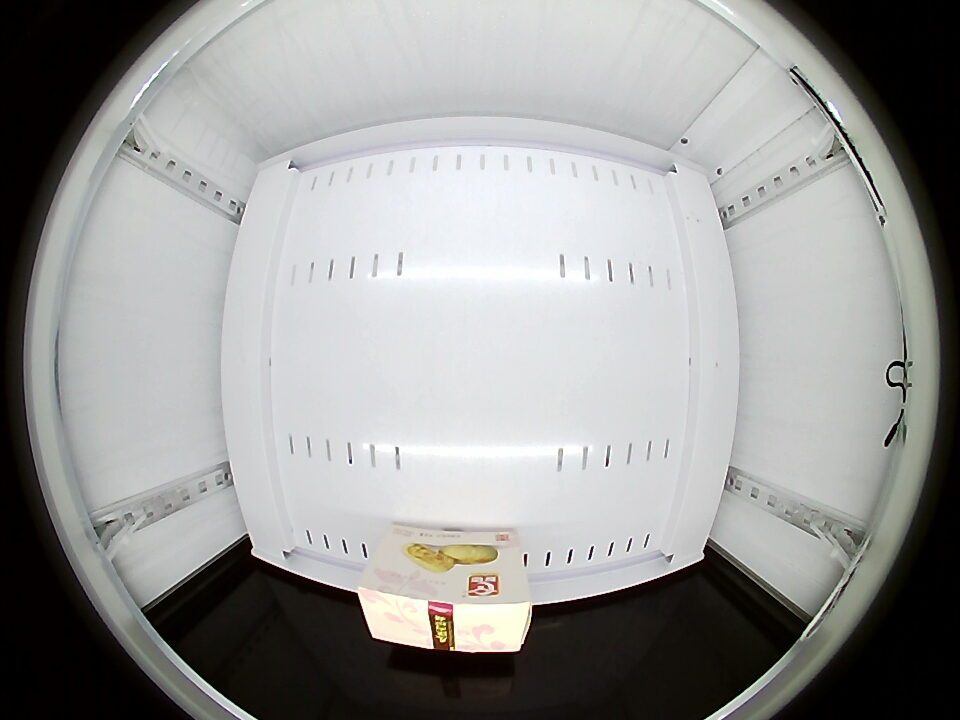rousongbing: (357, 537, 533, 655)
